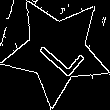L_NW: (28, 23, 85, 79)
